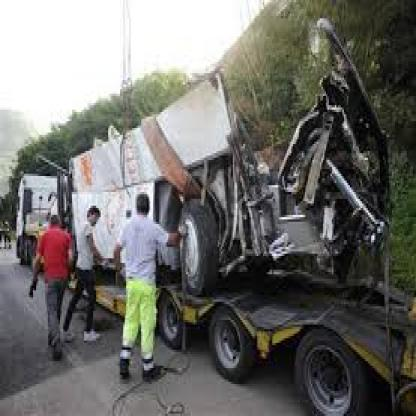accident: (172, 9, 416, 386)
